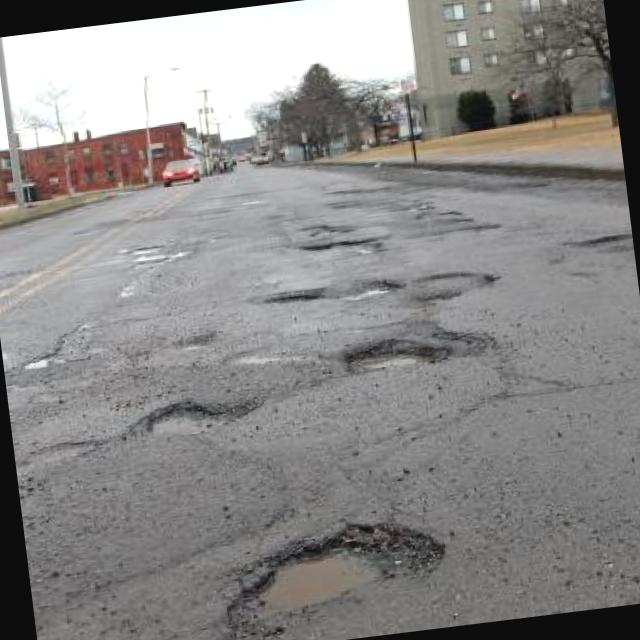Lubang: (226, 522, 444, 638), (128, 400, 260, 436), (342, 335, 451, 372), (331, 278, 404, 300), (298, 238, 378, 250), (264, 287, 325, 300)
